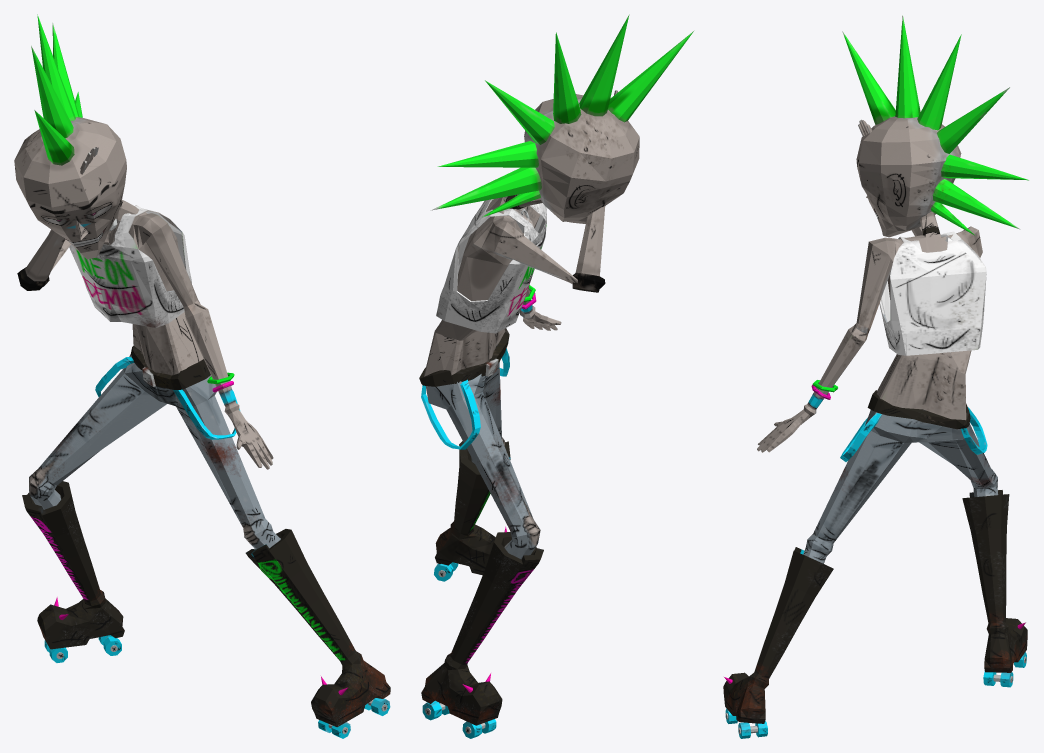
The model's file is punkAnimation_000051.obj.
3 views of the same model, side by side, from view 1: azimuth 30°, elevation 25°; view 2: azimuth 150°, elevation 25°; view 3: azimuth 270°, elevation 25° (orthographic). The views are drawn at different scales.
Visible parts, largest first — view 1: Cube.004_Cube.003; view 2: Cube.004_Cube.003; view 3: Cube.004_Cube.003.
Part boxes in pixels (left/top/right/bottom): Cube.004_Cube.003: left=14, top=14, right=390, bottom=738; Cube.004_Cube.003: left=419, top=14, right=694, bottom=738; Cube.004_Cube.003: left=723, top=15, right=1028, bottom=738.
Bounding box in the file's own units: 3.13 × 6.72 × 3.04.
